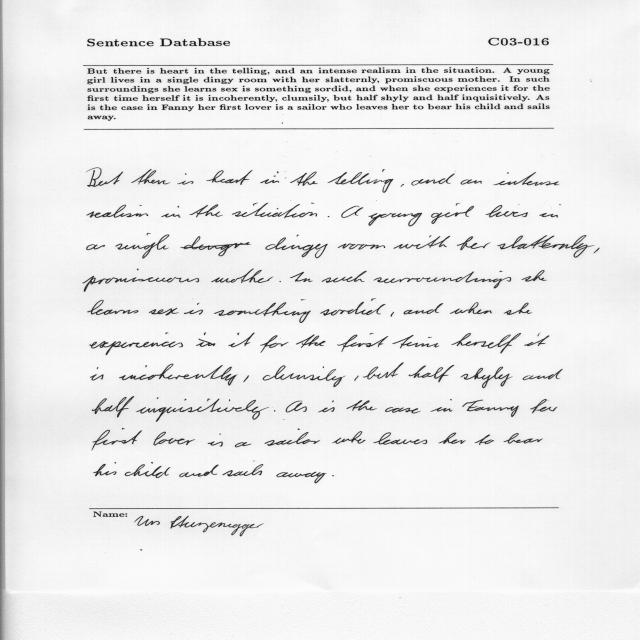word: (115, 233, 251, 259), (136, 397, 269, 422), (90, 333, 215, 355), (83, 269, 199, 292), (119, 364, 238, 386), (374, 271, 511, 288), (214, 299, 311, 323), (497, 235, 595, 258), (263, 366, 346, 388), (328, 169, 393, 193), (266, 235, 328, 258), (451, 333, 521, 353), (232, 203, 317, 218), (320, 299, 386, 316), (92, 429, 142, 451), (461, 367, 513, 388), (265, 428, 320, 446), (337, 333, 388, 352), (462, 400, 519, 417), (494, 172, 560, 186), (431, 203, 474, 224), (92, 397, 134, 418), (211, 269, 273, 283), (394, 235, 451, 249), (87, 205, 148, 218), (88, 300, 139, 315), (409, 365, 454, 382), (125, 462, 170, 478), (86, 168, 123, 187), (374, 432, 428, 445), (207, 170, 253, 185), (369, 213, 422, 226), (363, 363, 404, 379), (131, 169, 170, 185), (393, 335, 439, 348), (486, 204, 528, 218), (277, 472, 327, 483), (154, 432, 196, 445), (322, 271, 367, 283), (411, 174, 455, 186), (260, 335, 289, 353), (450, 302, 492, 314), (223, 464, 264, 476), (404, 303, 444, 315), (180, 465, 219, 477), (457, 237, 490, 251), (522, 369, 563, 380), (189, 205, 223, 218), (332, 431, 366, 444), (504, 433, 543, 444), (296, 334, 326, 348), (290, 172, 318, 186), (228, 333, 255, 347), (531, 399, 558, 413), (260, 171, 287, 184), (504, 303, 532, 315), (347, 400, 377, 411), (338, 243, 385, 250), (524, 333, 549, 346), (94, 462, 117, 476), (438, 433, 466, 444), (430, 399, 453, 412), (540, 205, 562, 218), (521, 270, 547, 281), (342, 206, 364, 218), (385, 407, 421, 414), (149, 308, 179, 316), (286, 401, 307, 412), (290, 272, 313, 282), (184, 303, 203, 315), (161, 206, 181, 217), (318, 401, 335, 413), (208, 434, 223, 447), (178, 173, 194, 185), (475, 435, 494, 445), (91, 367, 104, 381), (87, 244, 105, 250), (461, 180, 482, 185), (235, 442, 251, 447), (243, 376, 249, 383), (594, 248, 600, 254), (355, 375, 359, 381), (391, 312, 394, 317), (401, 184, 404, 187), (328, 216, 330, 217), (279, 281, 281, 282), (274, 410, 275, 412), (332, 475, 334, 476)
